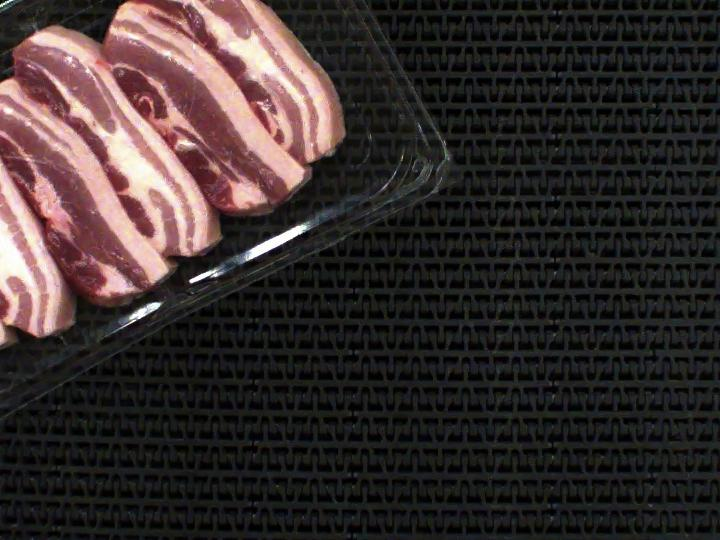packaging-error: (14, 16, 57, 36)
